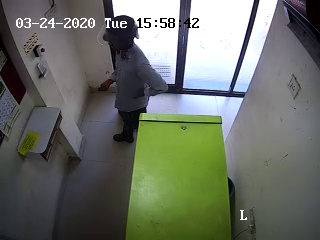helmet: (97, 15, 142, 57)
